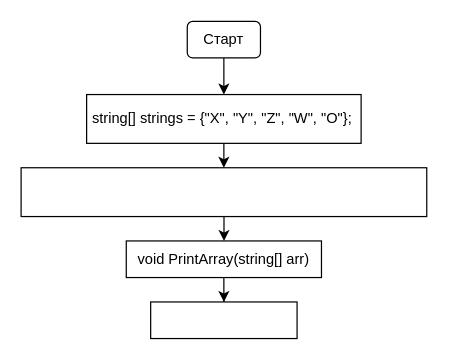
Some shapes in this 449 by 360 pixel diagram are drawn without their labels. The centre of each missing label's shape, as x and y in pixels:
PrintArray(result): pixel 223 320
string[] result = strings.Where(x => x.Length <= 3).ToArray();: pixel 223 192
